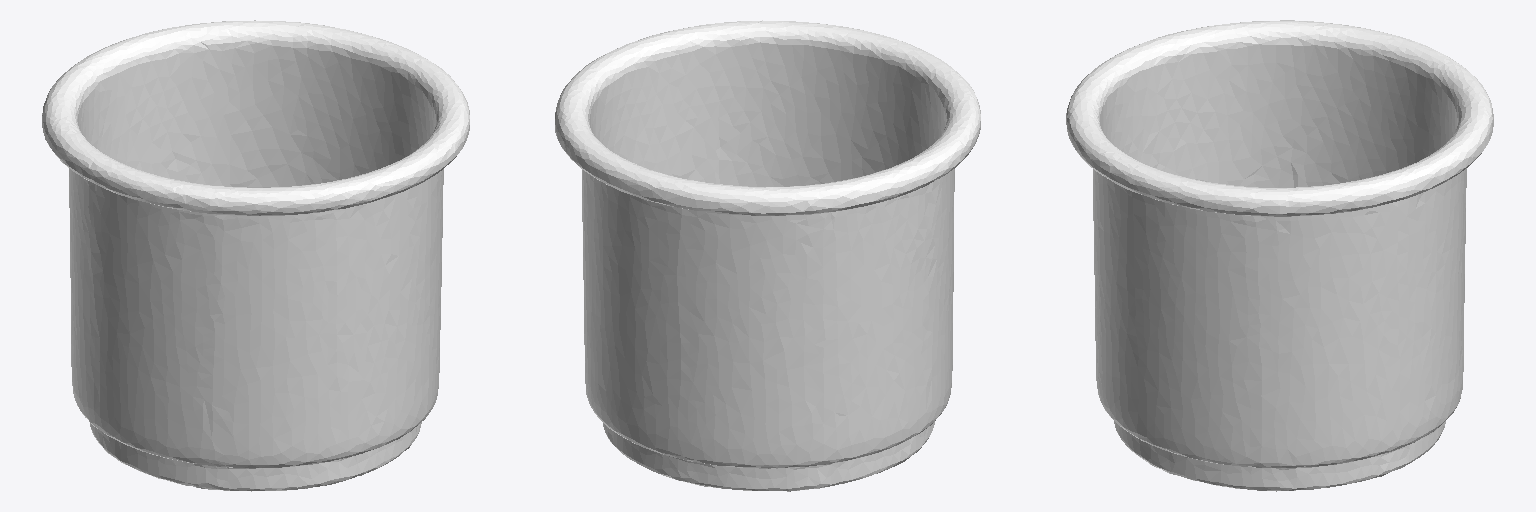
robot.urdf — 077_rubiks_cube:
<robot name="077_rubiks_cube">
	<link name="_name">
		<visual>
			<origin xyz="0.16219049878342387 0.004852905644285977 -0.28589928178413304" rpy="0 0 0" />
			<geometry>
				<mesh filename="077_rubiks_cube/google_16k/textured.obj" scale="10 10 10" />
			</geometry>
			<material name="texture">
				<color rgba="1.0 1.0 1.0 1.0" />
			</material>
		</visual>
		<collision>
			<geometry>
				<mesh filename="077_rubiks_cube/google_16k/textured_vhacd.obj" scale="10 10 10" />
			</geometry>
		<origin xyz="0.16219049878342387 0.004852905644285977 -0.28589928178413304" rpy="0 0 0" /></collision>
		<inertial>
			<mass value="1.0" />
			<inertia ixx="1.0" ixy="0.0" ixz="0.0" iyy="1.0" iyz="0.0" izz="1.0" />
		</inertial>
	</link>
</robot>

--- What the picture shows (computed from the rendered views, not written in the file) ---
The picture shows the robot from 3 angles, left to right: view 1: azimuth 30°, elevation 25°; view 2: azimuth 150°, elevation 25°; view 3: azimuth 270°, elevation 25°; orthographic projection.
Robot: 077_rubiks_cube — 1 links, 0 joints (none); root link _name; default pose: all joints at 0.
Links seen in each view (by area): view 1: _name; view 2: _name; view 3: _name.
Link boxes in pixels (x1=…): _name: x1=42, y1=20, x2=469, y2=491; _name: x1=555, y1=20, x2=980, y2=491; _name: x1=1066, y1=20, x2=1493, y2=491.
Bounding box of the posed robot: 0.915 × 0.9162 × 0.7506 m (x, y, z).
1 mesh visuals loaded from 1 distinct referenced files (1 OBJ).